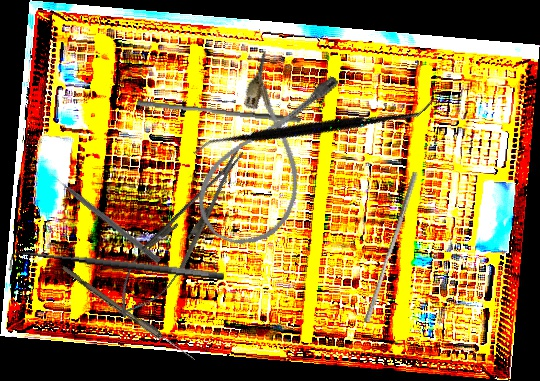Cannula: (186, 46, 346, 260)
Hook Surgical: (5, 243, 225, 298)
Needle Holder: (102, 137, 261, 330)
Pusher: (48, 169, 162, 265), (363, 168, 419, 326), (136, 99, 302, 123)
Spatula Surgical: (192, 9, 436, 244)
Surgical Spoon: (59, 265, 198, 363)
